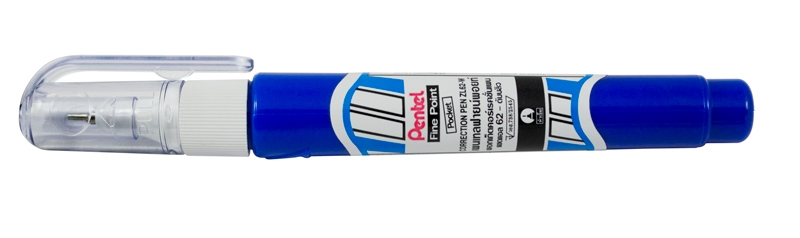Correction_fluid: (12, 42, 763, 164)
